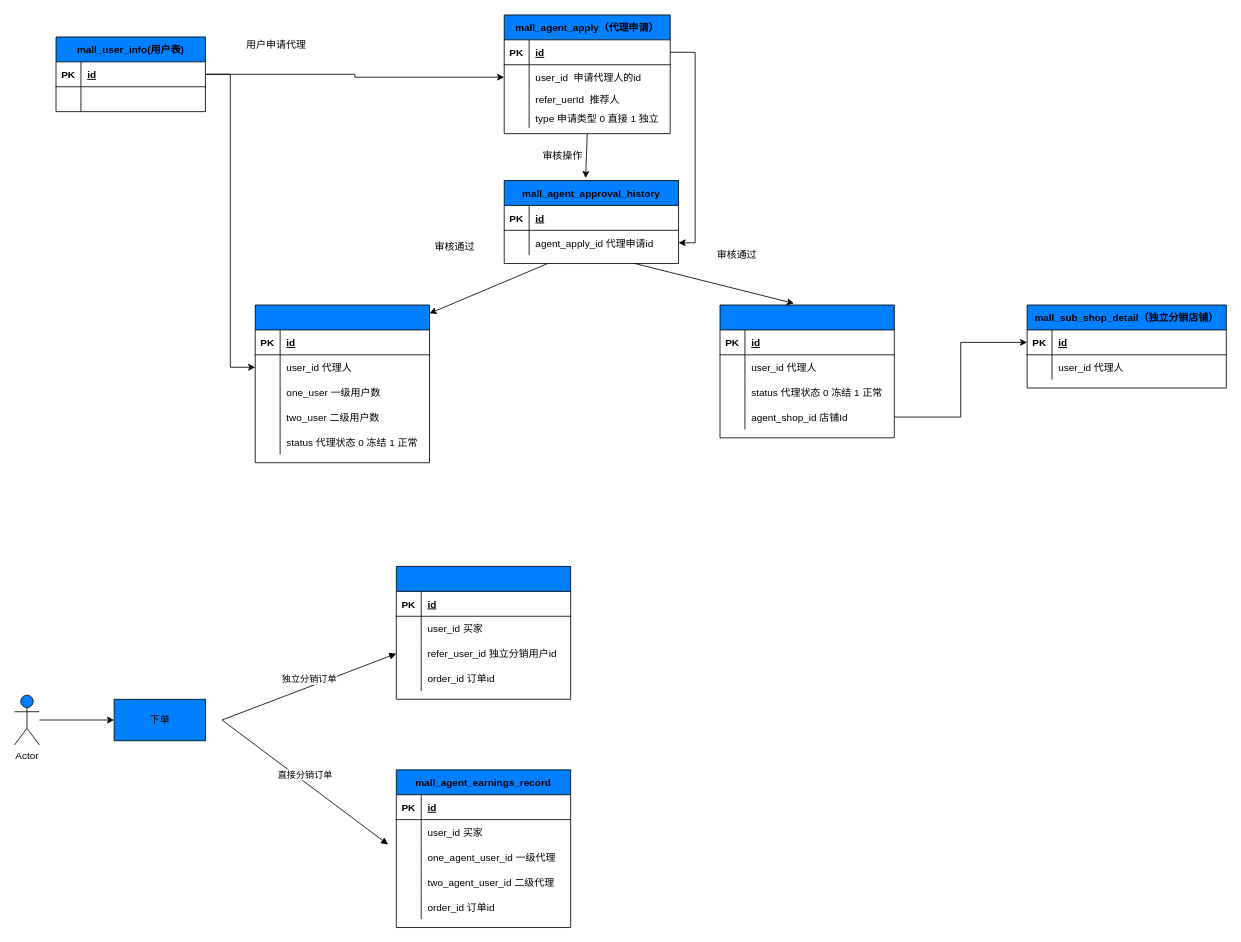
Some shapes in this 1241 by 942 pixel diagram are drawn without their labels. The box of each missing label's shape, as (x1, y1, x2, y2) in pixels:
mall_agent_independent_record: (395, 566, 571, 699)
mall_agent_independent（独立）: (719, 304, 894, 438)
mall_agent_info（直接）: (254, 304, 430, 463)
